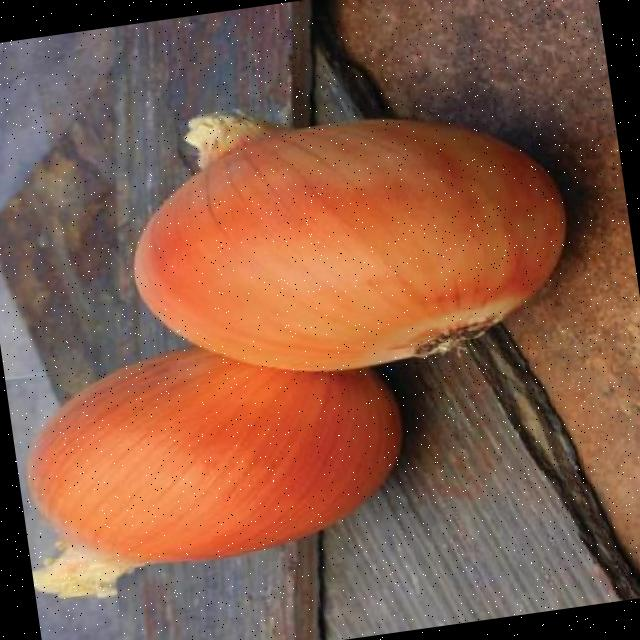Onion: (135, 112, 567, 369), (28, 347, 403, 597)
